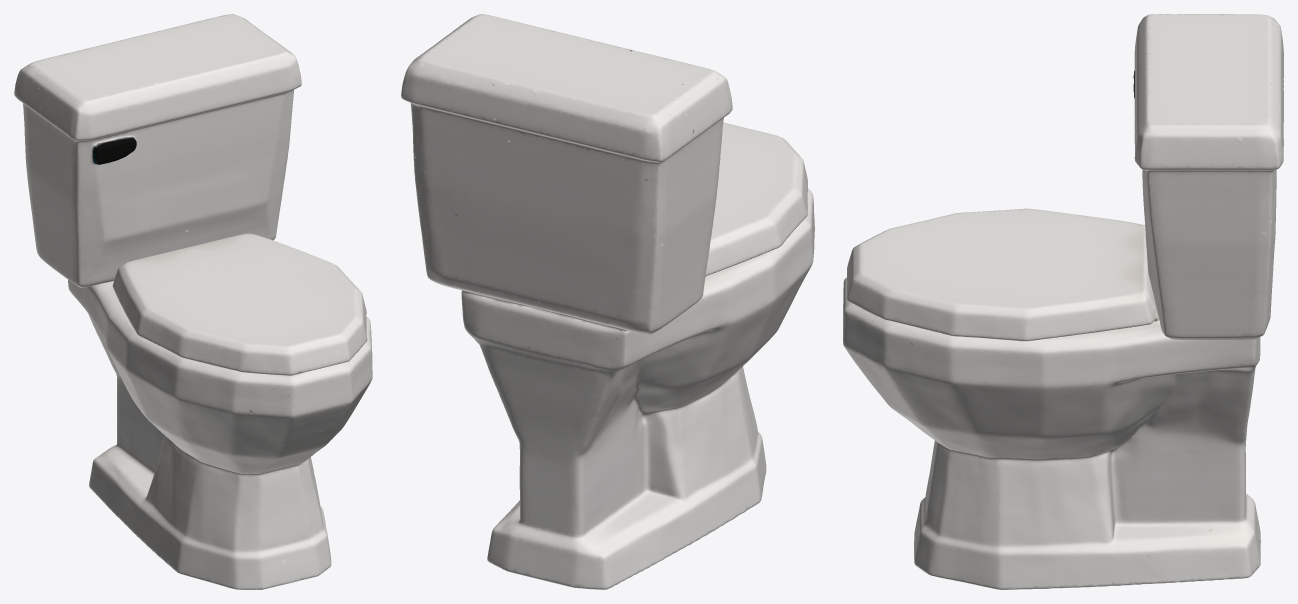
File: toilet.glb
3 renders of one model, left to right at view 1: azimuth 30°, elevation 25°; view 2: azimuth 150°, elevation 25°; view 3: azimuth 270°, elevation 25°, orthographic. The views are drawn at different scales.
Parts seen in each view (by area): view 1: world; view 2: world; view 3: world.
Part boxes in pixels (x1,y1,x2,y2): world: (14,14,372,589); world: (401,14,814,589); world: (843,14,1283,589).
Size of the model in its own units: 0.5574 by 1 by 0.8318.
1 material, 1 textured.
